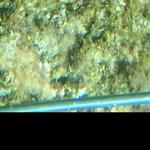dead: (2, 1, 148, 112)
